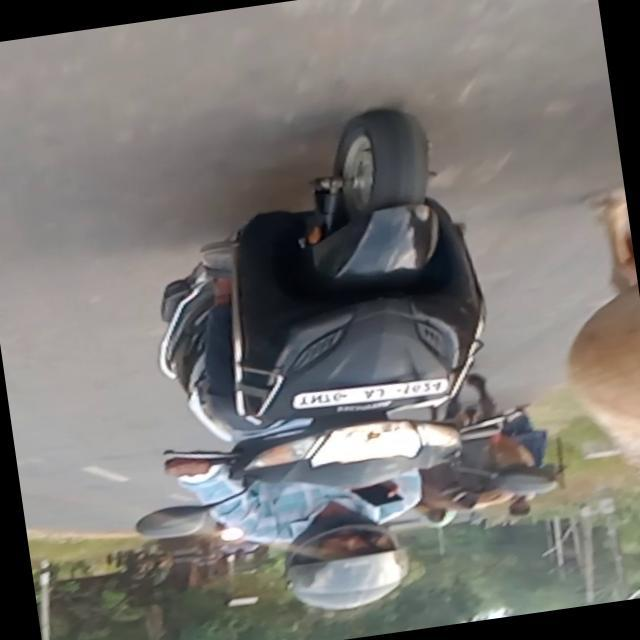USING_MOBILE: (276, 480, 442, 618)
